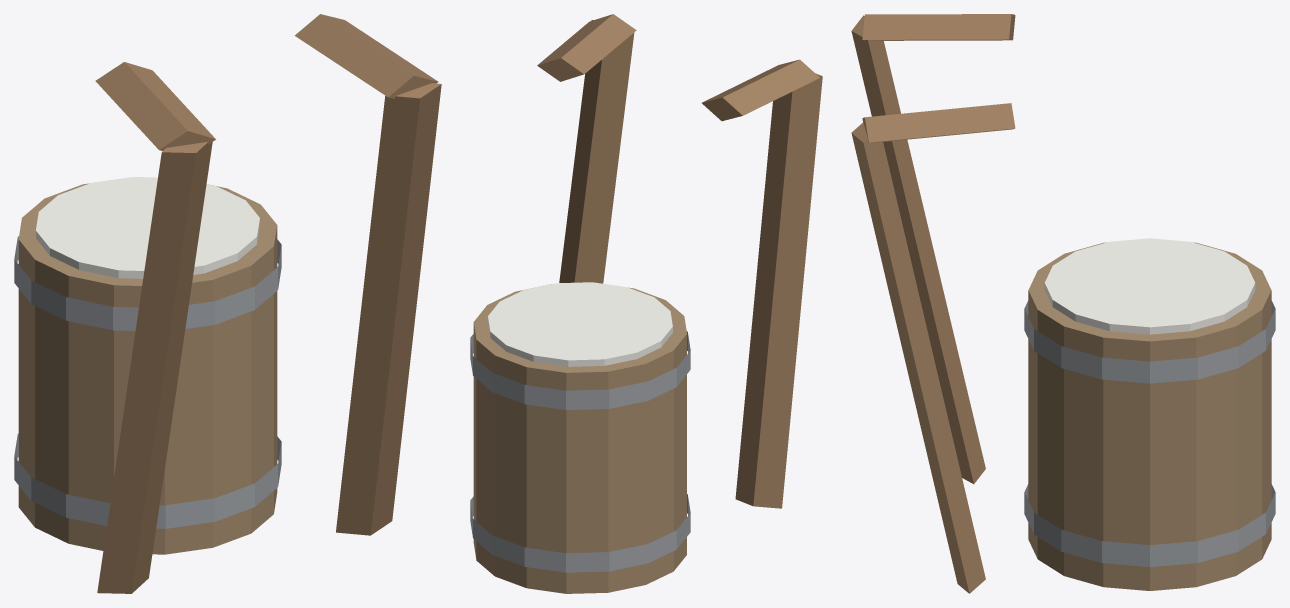
The model's file is load_milk.glb.
The picture shows the model from 3 angles, left to right: view 1: azimuth 30°, elevation 25°; view 2: azimuth 150°, elevation 25°; view 3: azimuth 270°, elevation 25°; orthographic projection. The views are drawn at different scales.
Visible parts, largest first — view 1: Carry.Pail, Carry.Strap#3, Carry.Strap, Goods.Milk, Carry.Pail.Band, Carry.Pail.Band#2, Carry.Strap#2, Carry.Strap#4; view 2: Carry.Pail, Carry.Strap, Goods.Milk, Carry.Strap#3, Carry.Pail.Band#2, Carry.Pail.Band, Carry.Strap#4, Carry.Strap#2; view 3: Carry.Pail, Goods.Milk, Carry.Strap#3, Carry.Strap, Carry.Pail.Band, Carry.Pail.Band#2, Carry.Strap#2, Carry.Strap#4.
Part boxes in pixels (box(x1,y1,x2,y2)): Carry.Pail: box(18, 183, 277, 554); Carry.Strap#3: box(336, 83, 441, 535); Carry.Strap: box(97, 141, 212, 593); Goods.Milk: box(36, 177, 259, 278); Carry.Pail.Band: box(14, 433, 281, 528); Carry.Pail.Band#2: box(14, 236, 281, 330); Carry.Strap#2: box(95, 62, 215, 151); Carry.Strap#4: box(294, 14, 438, 98); Carry.Pail: box(473, 284, 686, 593); Carry.Strap: box(735, 73, 822, 508); Goods.Milk: box(488, 282, 672, 366); Carry.Strap#3: box(559, 20, 634, 283); Carry.Pail.Band#2: box(470, 331, 690, 409); Carry.Pail.Band: box(470, 494, 690, 572); Carry.Strap#4: box(537, 14, 636, 81); Carry.Strap#2: box(702, 59, 819, 121); Carry.Pail: box(1028, 242, 1271, 590); Goods.Milk: box(1044, 238, 1255, 334); Carry.Strap#3: box(851, 122, 985, 593); Carry.Strap: box(851, 15, 985, 484); Carry.Pail.Band: box(1024, 484, 1275, 566); Carry.Pail.Band#2: box(1024, 301, 1275, 383); Carry.Strap#2: box(862, 14, 1015, 40); Carry.Strap#4: box(862, 103, 1015, 142).
Bounding box in the file's own units: 0.3918 × 0.6555 × 0.5235.
